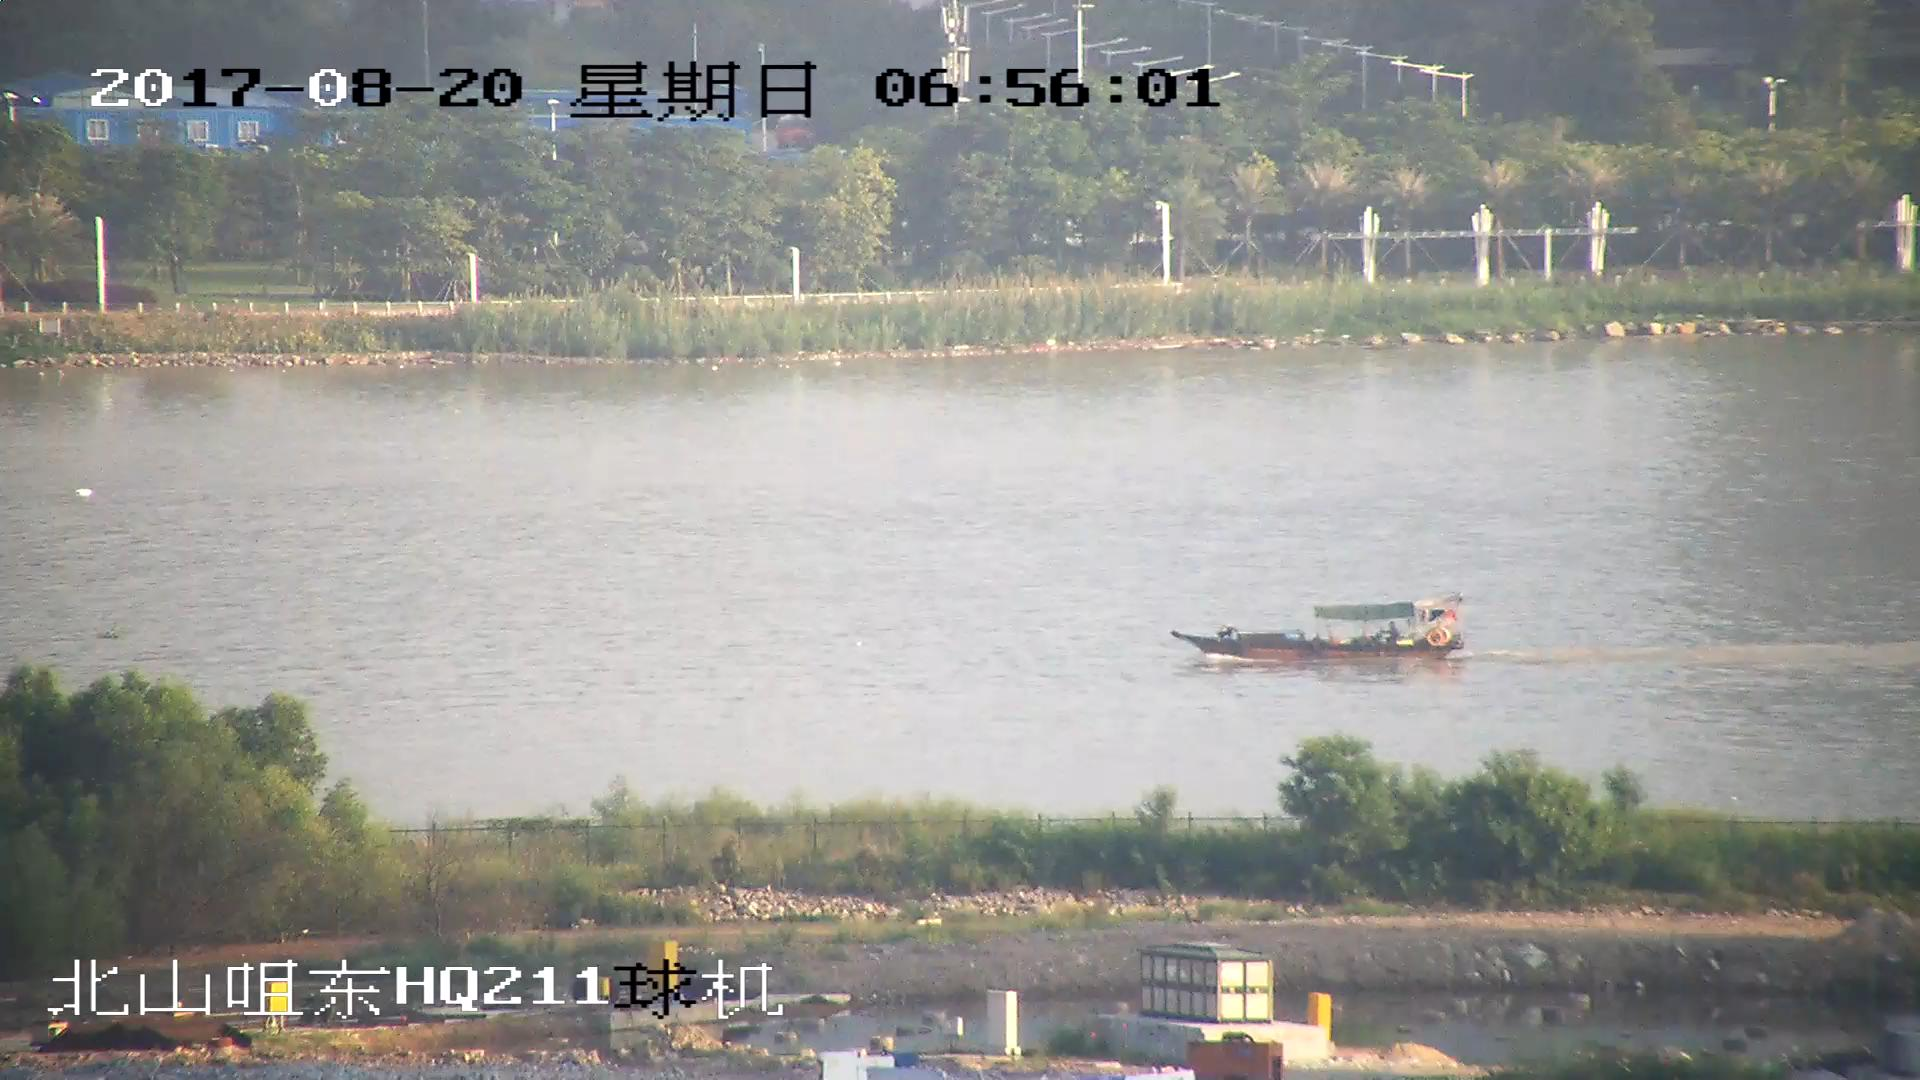fishing boat: (1172, 597, 1463, 667)
